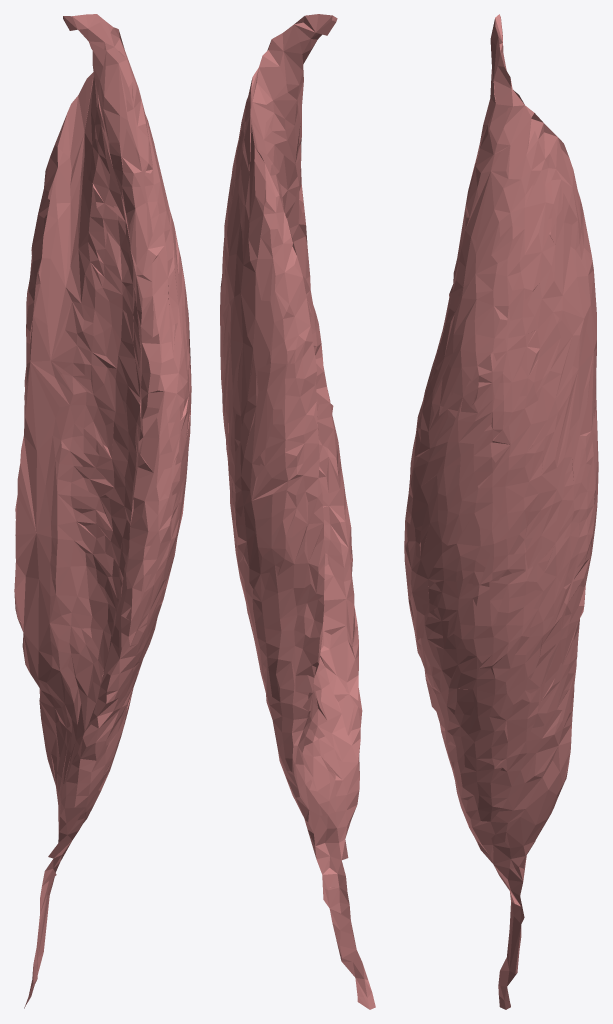
The model's file is Vastus_lateralis_muscle.l.glb.
3 views of the same model, side by side, from view 1: azimuth 30°, elevation 25°; view 2: azimuth 150°, elevation 25°; view 3: azimuth 270°, elevation 25° (orthographic). The views are drawn at different scales.
Parts seen in each view (by area): view 1: Vastus_lateralis_muscle.l; view 2: Vastus_lateralis_muscle.l; view 3: Vastus_lateralis_muscle.l.
Part boxes in pixels (box(x1,y1,x2,y2)): Vastus_lateralis_muscle.l: box(14, 14, 191, 1008); Vastus_lateralis_muscle.l: box(220, 14, 375, 1009); Vastus_lateralis_muscle.l: box(404, 14, 598, 1009).
Bounding box in the file's own units: 0.0728 × 0.4512 × 0.0784.
